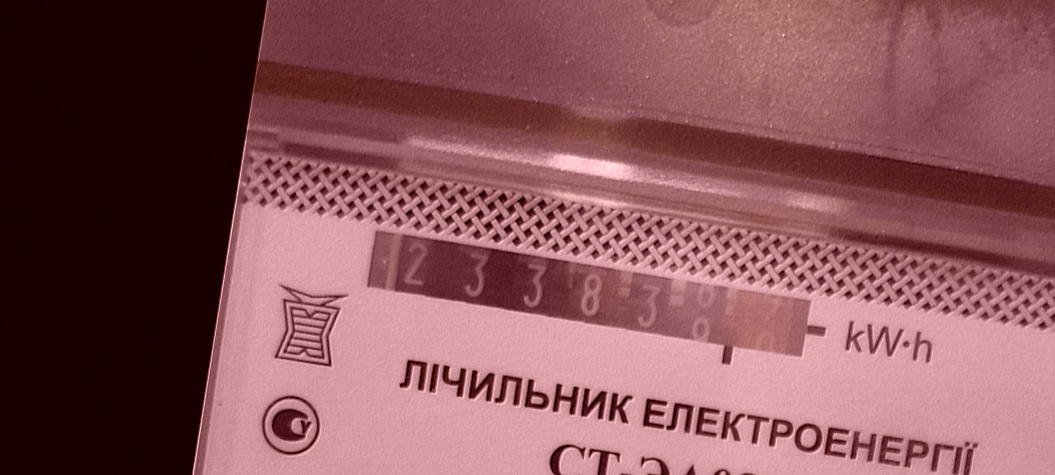0: (751, 327, 780, 355)
2: (398, 238, 433, 290)
3: (458, 249, 492, 302), (518, 260, 550, 313), (632, 280, 664, 332)
8: (575, 270, 606, 319), (690, 282, 722, 313)
9: (685, 313, 716, 345), (756, 292, 785, 324)
screen: (350, 217, 830, 382)
